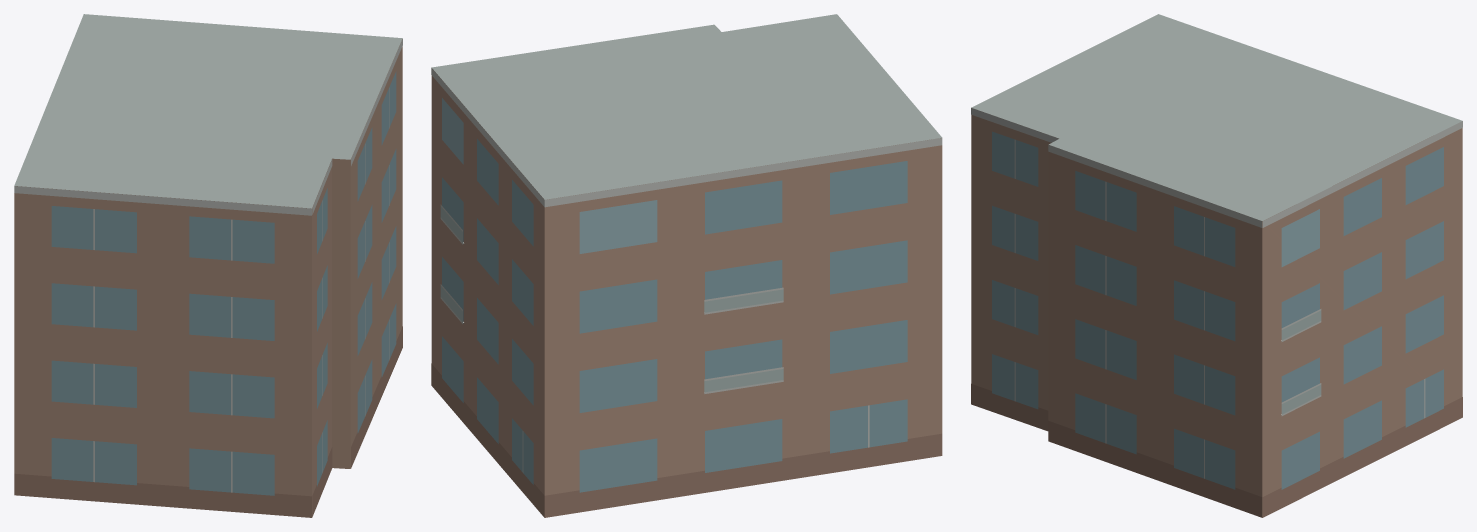
The model's file is survey-upis-32534665.glb.
3 views of the same model, side by side, from view 1: azimuth 30°, elevation 25°; view 2: azimuth 150°, elevation 25°; view 3: azimuth 270°, elevation 25° (orthographic). The views are drawn at different scales.
Visible parts, largest first — view 1: survey-upis-32534665.tmp; view 2: survey-upis-32534665.tmp; view 3: survey-upis-32534665.tmp.
Boxes of the visible parts, x1,y1,x2,y2 form: survey-upis-32534665.tmp: [14, 14, 402, 517]; survey-upis-32534665.tmp: [431, 14, 942, 517]; survey-upis-32534665.tmp: [971, 14, 1462, 517].
Size of the model in its own units: 15.59 by 10.4 by 15.63.
